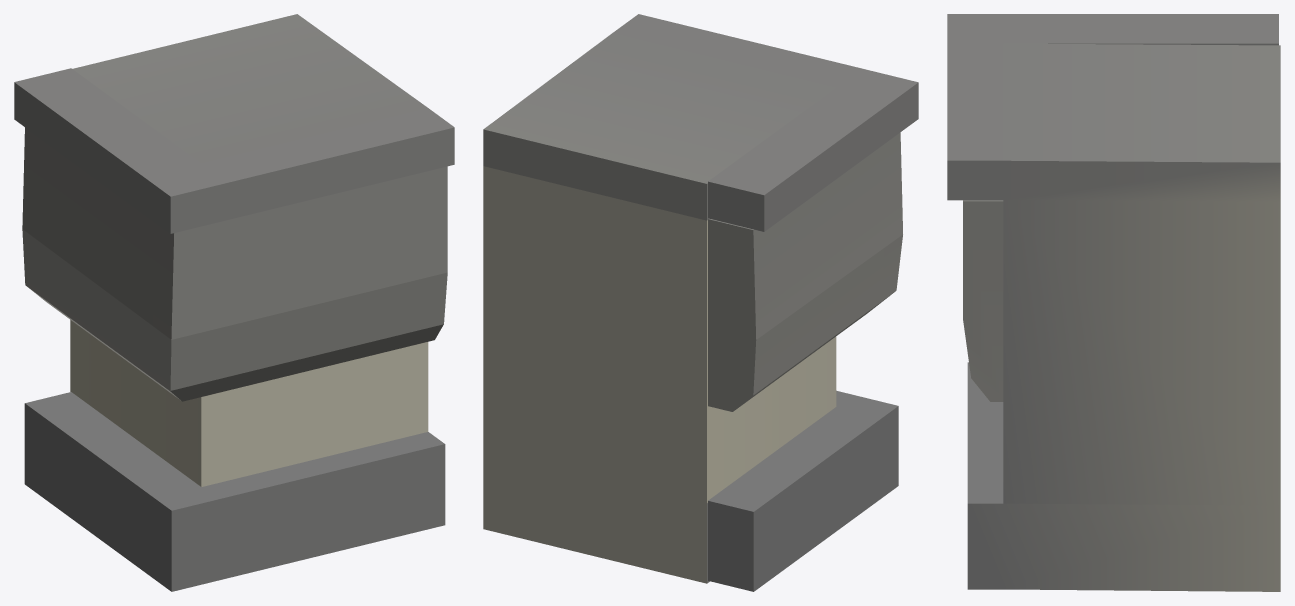
Rendered from B02_intersection_etage_corner_3.fbx.
3 views of the same model, side by side, from view 1: azimuth 30°, elevation 25°; view 2: azimuth 150°, elevation 25°; view 3: azimuth 270°, elevation 25° (orthographic). The views are drawn at different scales.
Visible parts, largest first — view 1: B02_intersection_etage_corner_3; view 2: B02_intersection_etage_corner_3; view 3: B02_intersection_etage_corner_3.
Boxes of the visible parts, x1=… form: B02_intersection_etage_corner_3: x1=14, y1=14, x2=454, y2=591; B02_intersection_etage_corner_3: x1=483, y1=14, x2=918, y2=591; B02_intersection_etage_corner_3: x1=947, y1=14, x2=1280, y2=591.
Bounding box in the file's own units: 94.03 × 129 × 90.12.
